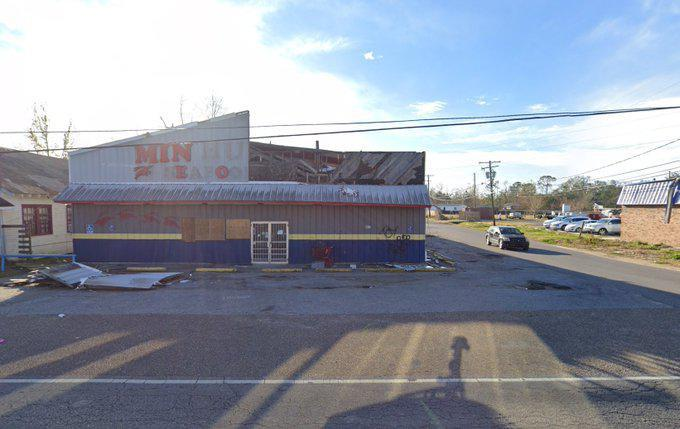destroyed: (59, 104, 441, 290)
